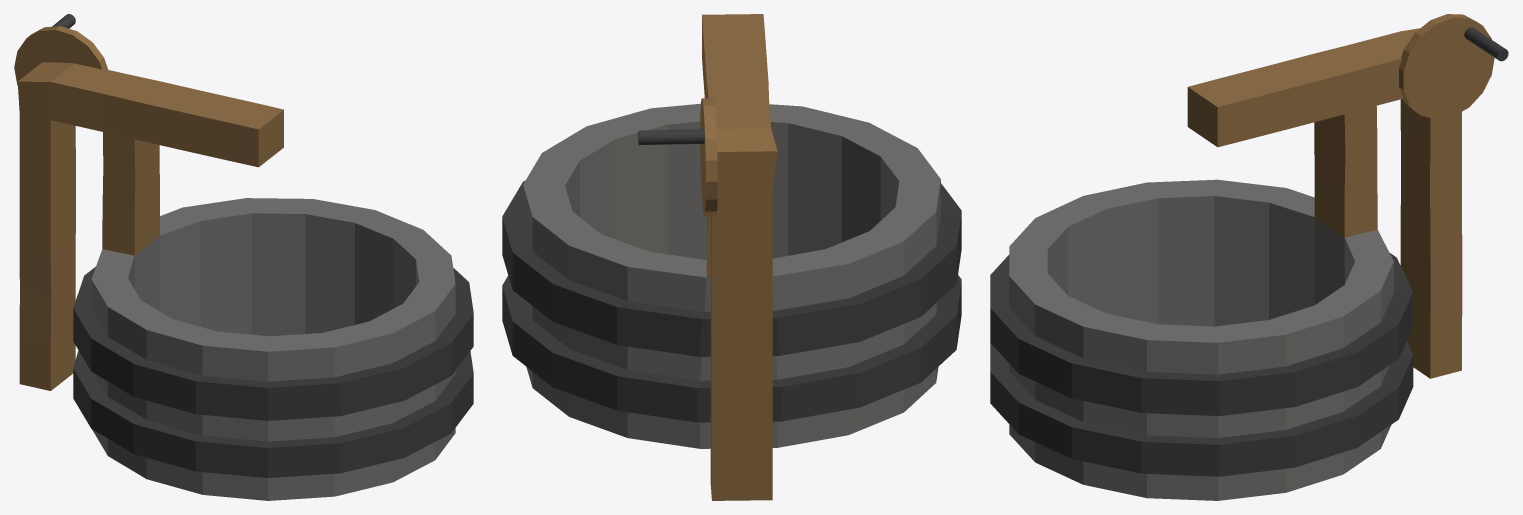
The model's file is Well_T2.fbx.
The picture shows the model from 3 angles, left to right: view 1: azimuth 30°, elevation 25°; view 2: azimuth 150°, elevation 25°; view 3: azimuth 270°, elevation 25°; orthographic projection. The views are drawn at different scales.
Visible parts, largest first — view 1: Well_T2; view 2: Well_T2; view 3: Well_T2.
Boxes of the visible parts, <box> form: Well_T2: <box>14,14,473,500</box>; Well_T2: <box>502,14,961,500</box>; Well_T2: <box>990,14,1508,500</box>.
Bounding box in the file's own units: 110 × 102 × 134.
